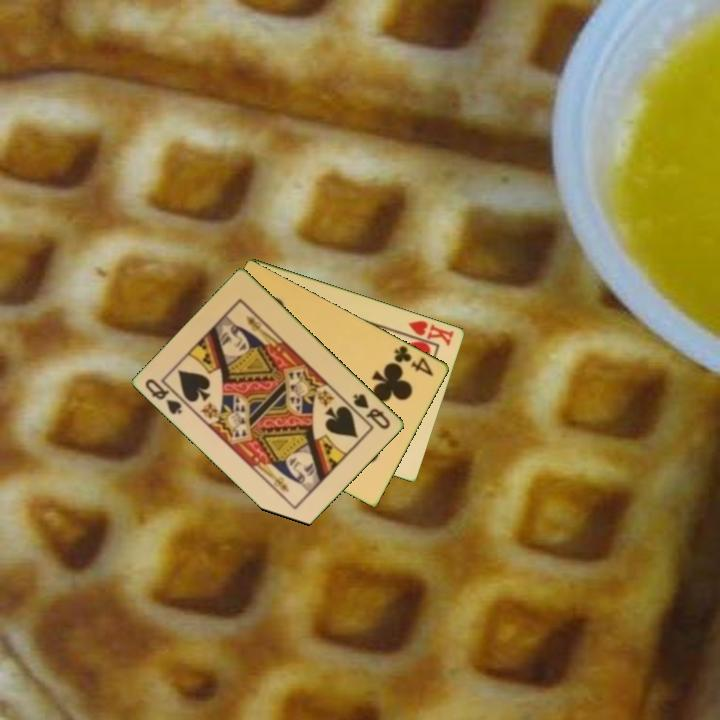4c: (391, 341, 437, 379)
Kh: (400, 317, 457, 349)
Qs: (142, 375, 192, 418), (350, 390, 394, 432)
